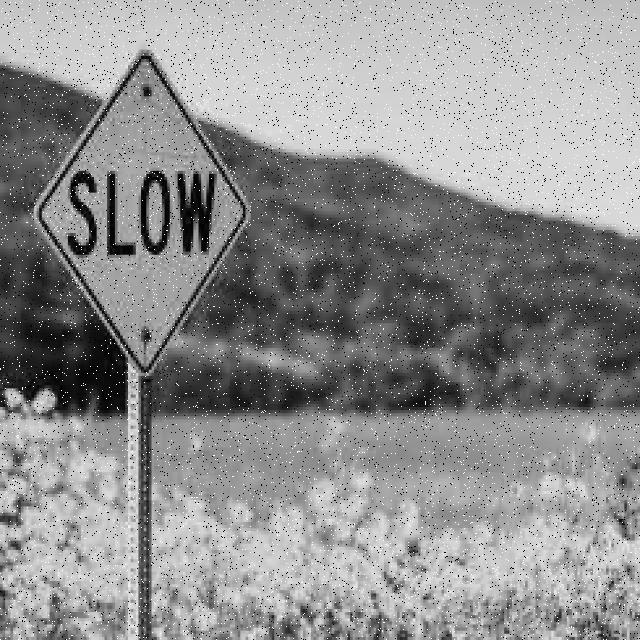go_slow: (36, 52, 252, 380)
